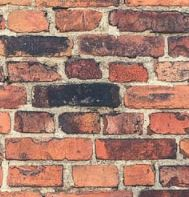brick: (5, 138, 93, 161), (34, 85, 120, 107), (80, 35, 165, 57), (113, 8, 189, 32), (95, 138, 177, 160), (1, 36, 72, 58), (126, 86, 189, 108), (4, 164, 66, 185), (71, 165, 118, 187), (14, 110, 55, 133), (103, 113, 144, 135), (8, 10, 50, 31), (61, 112, 101, 133), (149, 114, 189, 135), (154, 61, 189, 83), (58, 12, 98, 31), (113, 61, 148, 82), (123, 166, 157, 186), (161, 165, 189, 187), (1, 85, 26, 107), (69, 61, 101, 78)
